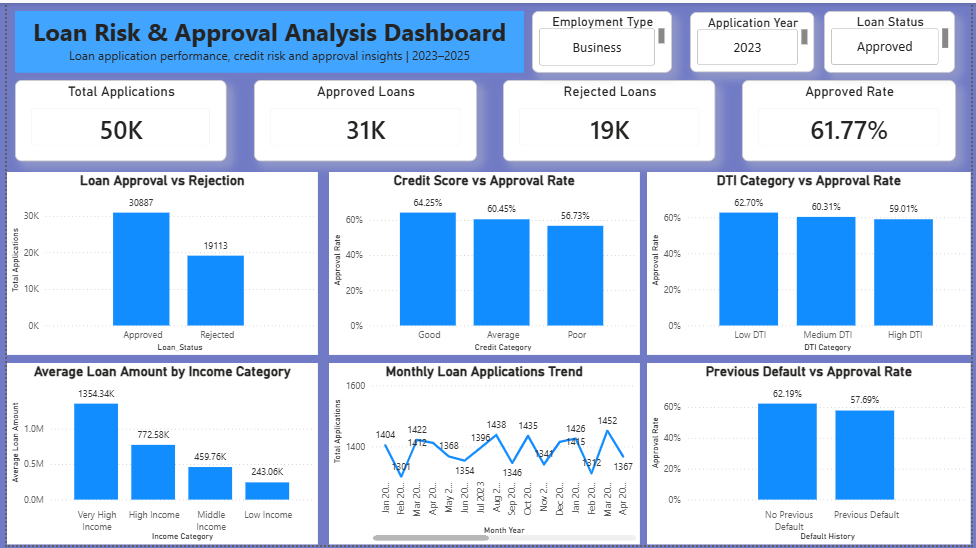

The dashboard page shown, as its layout file describes it:
{"tool":"powerbi","page":{"name":"Page 1","canvas":[1280,720],"ordinal":0},"visuals":[{"type":"cardVisual","title":"Total Applications","fields":{"Data":["loan_risk_cleaned.Total Applications"]},"box":[0,202,263.4,108.3],"z":0},{"type":"cardVisual","title":"Approved Loans","fields":{"Data":["loan_risk_cleaned.Approved Loans"]},"box":[327.8,202,295.6,108.3],"z":1000},{"type":"cardVisual","title":"Rejected Loans","fields":{"Data":["loan_risk_cleaned.Rejected Loans"]},"box":[686.3,202,263.4,108.3],"z":2000},{"type":"cardVisual","title":"Approved Rate","fields":{"Data":["loan_risk_cleaned.Approval Rate"]},"box":[1018.5,202,262,108.3],"z":3000},{"type":"clusteredColumnChart","title":"Loan Approval vs Rejection","fields":{"Category":["loan_risk_cleaned.Loan_Status"],"Y":["loan_risk_cleaned.Total Applications"]},"box":[0,326.3,384.9,190.2],"z":4000},{"type":"clusteredColumnChart","title":"Credit Score vs Approval Rate","fields":{"Category":["loan_risk_cleaned.Credit Category"],"Y":["loan_risk_cleaned.Approval Rate"]},"box":[439,326.3,401,190.2],"z":5000},{"type":"clusteredColumnChart","title":"DTI Category vs Approval Rate","fields":{"Category":["loan_risk_cleaned.DTI Category"],"Y":["loan_risk_cleaned.Approval Rate"]},"box":[891.2,326.3,389.3,190.2],"z":6000},{"type":"clusteredColumnChart","title":"Previous Default vs Approval Rate","fields":{"Category":["loan_risk_cleaned.Default History"],"Y":["loan_risk_cleaned.Approval Rate"]},"box":[891.2,529.8,389.3,190.2],"z":7000},{"type":"clusteredColumnChart","title":"Average Loan Amount by Income Category","fields":{"Category":["loan_risk_cleaned.Income Category"],"Y":["loan_risk_cleaned.Average Loan Amount"]},"box":[0,529.8,384.9,190.2],"z":8000},{"type":"lineChart","title":"Monthly Loan Applications Trend","fields":{"Category":["loan_risk_cleaned.Month Year"],"Y":["loan_risk_cleaned.Total Applications"]},"box":[439,529.8,401,190.2],"z":9000},{"type":"textbox","box":[263.4,10.2,686.3,71.7],"z":10000},{"type":"advancedSlicerVisual","title":"Application Year","fields":{"Values":["loan_risk_cleaned.Application_Date.Variation.Date Hierarchy.Year"]},"box":[0,93.7,355.6,93.7],"z":11000},{"type":"advancedSlicerVisual","title":"Employment Type","fields":{"Values":["loan_risk_cleaned.Employment_Type"]},"box":[373.2,92.2,557.6,95.1],"z":12000},{"type":"advancedSlicerVisual","title":"Loan Status","fields":{"Values":["loan_risk_cleaned.Loan_Status"]},"box":[949.8,93.7,330.7,95.1],"z":13000}]}

Visuals, with their boxes in screenshot pixels (x1, y1, x2, y2), scaled from the page's 1280x720 canvas onto the 976x548 screenshot:
"Total Applications" cardVisual: (x1=0, y1=154, x2=201, y2=236)
"Approved Loans" cardVisual: (x1=250, y1=154, x2=475, y2=236)
"Rejected Loans" cardVisual: (x1=523, y1=154, x2=724, y2=236)
"Approved Rate" cardVisual: (x1=777, y1=154, x2=975, y2=236)
"Loan Approval vs Rejection" clusteredColumnChart: (x1=0, y1=248, x2=293, y2=393)
"Credit Score vs Approval Rate" clusteredColumnChart: (x1=335, y1=248, x2=640, y2=393)
"DTI Category vs Approval Rate" clusteredColumnChart: (x1=680, y1=248, x2=975, y2=393)
"Previous Default vs Approval Rate" clusteredColumnChart: (x1=680, y1=403, x2=975, y2=547)
"Average Loan Amount by Income Category" clusteredColumnChart: (x1=0, y1=403, x2=293, y2=547)
"Monthly Loan Applications Trend" lineChart: (x1=335, y1=403, x2=640, y2=547)
textbox: (x1=201, y1=8, x2=724, y2=62)
"Application Year" advancedSlicerVisual: (x1=0, y1=71, x2=271, y2=143)
"Employment Type" advancedSlicerVisual: (x1=285, y1=70, x2=710, y2=143)
"Loan Status" advancedSlicerVisual: (x1=724, y1=71, x2=975, y2=144)
